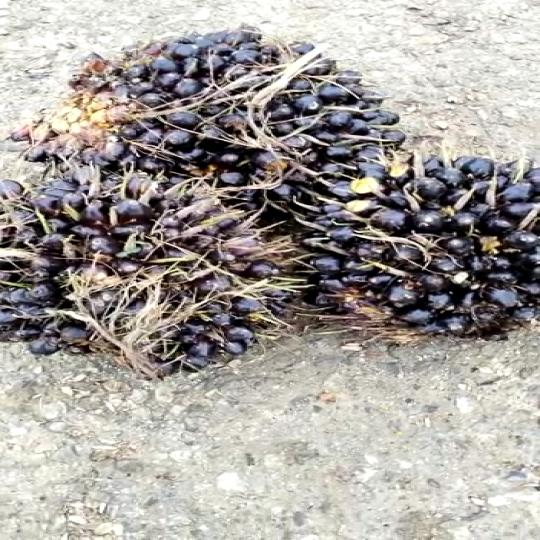mentah: (0, 156, 331, 404), (36, 20, 411, 218), (270, 142, 540, 342)
